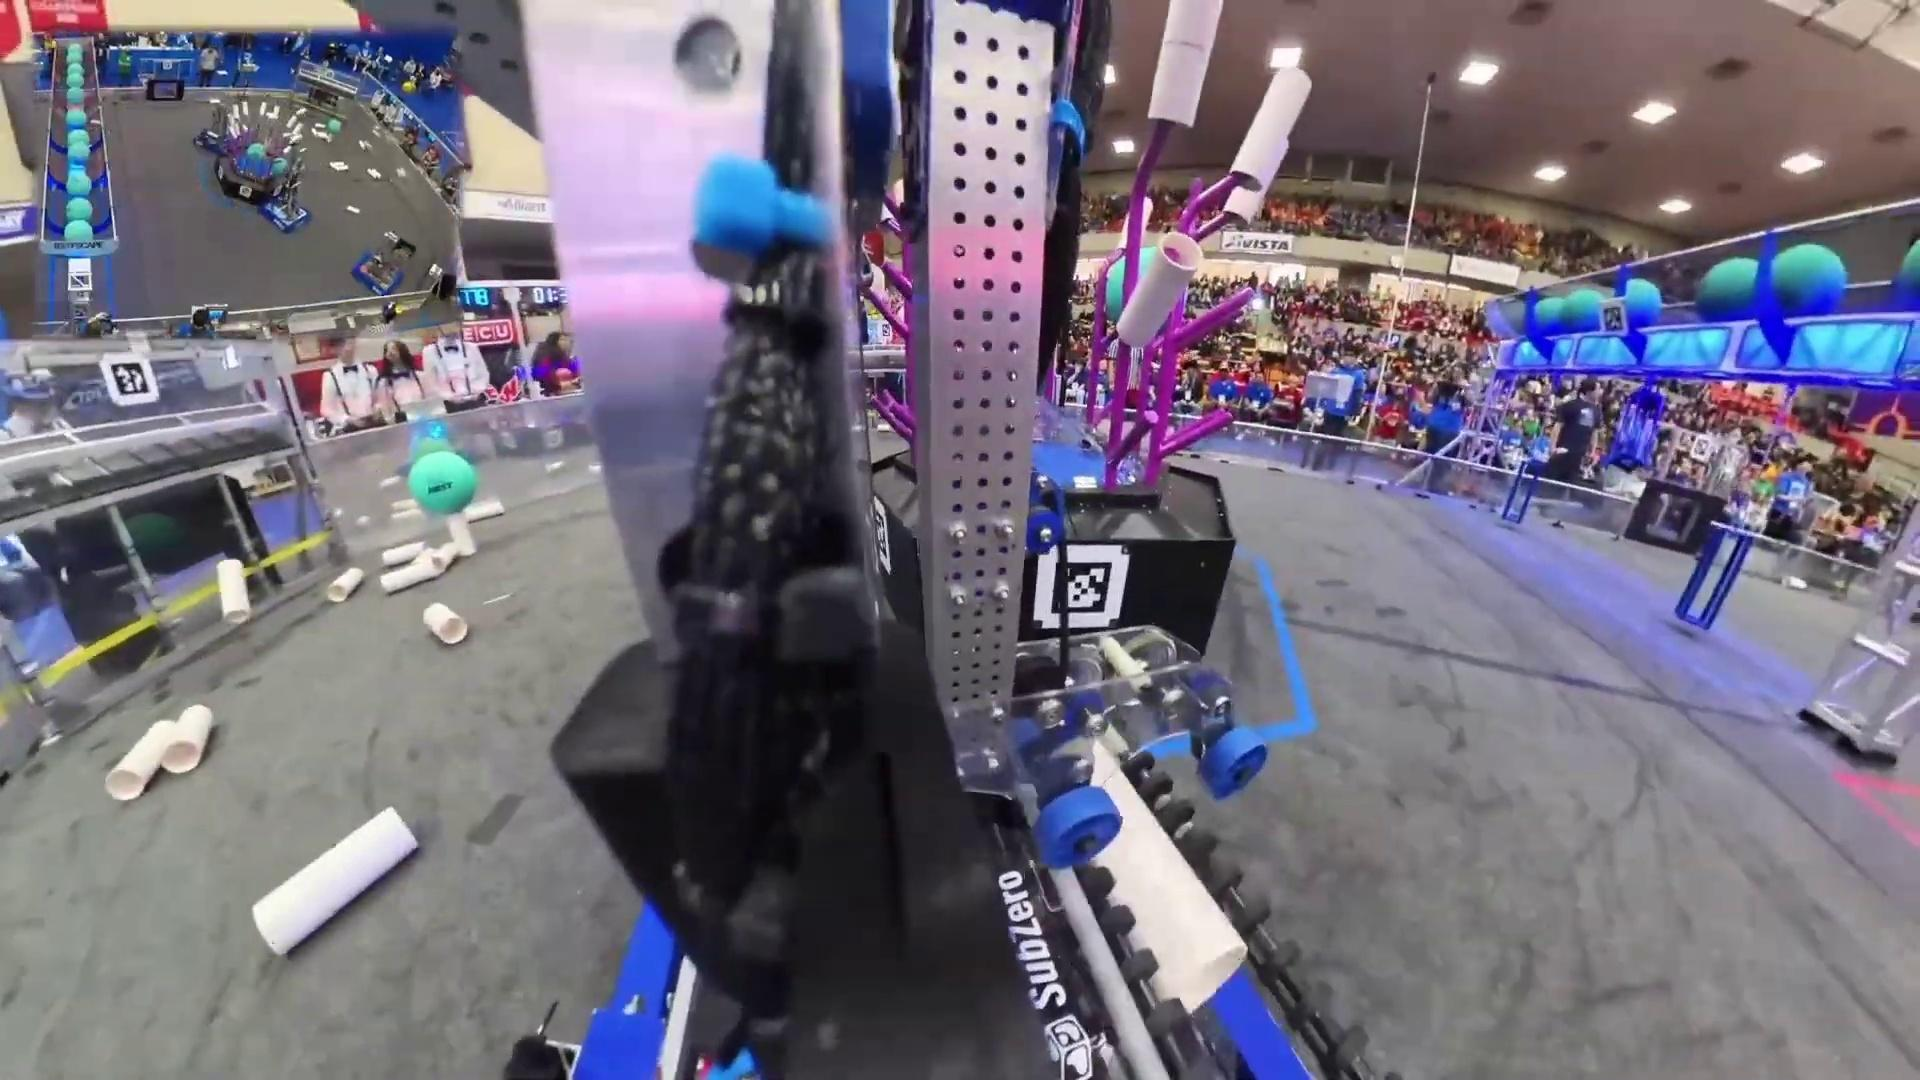robot: (257, 146, 315, 236), (351, 228, 421, 294), (193, 95, 222, 154)
